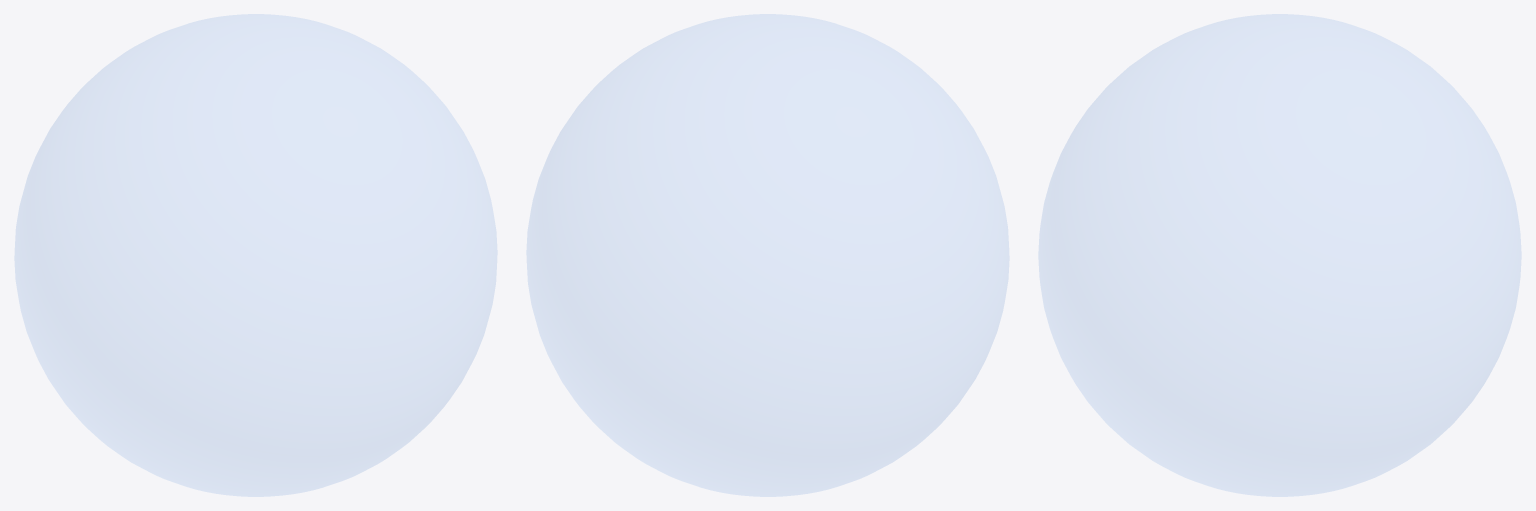
Rendered from planet_1.glb.
3 renders of one model, left to right at view 1: azimuth 30°, elevation 25°; view 2: azimuth 150°, elevation 25°; view 3: azimuth 270°, elevation 25°, orthographic.
Visible parts, largest first — view 1: atmo_1; view 2: atmo_1; view 3: atmo_1.
Part boxes in pixels (bbox=[...]): atmo_1: bbox=[14, 14, 497, 496]; atmo_1: bbox=[526, 14, 1009, 496]; atmo_1: bbox=[1038, 14, 1521, 496].
Bounding box in the file's own units: 2.06 × 2.06 × 2.06.
